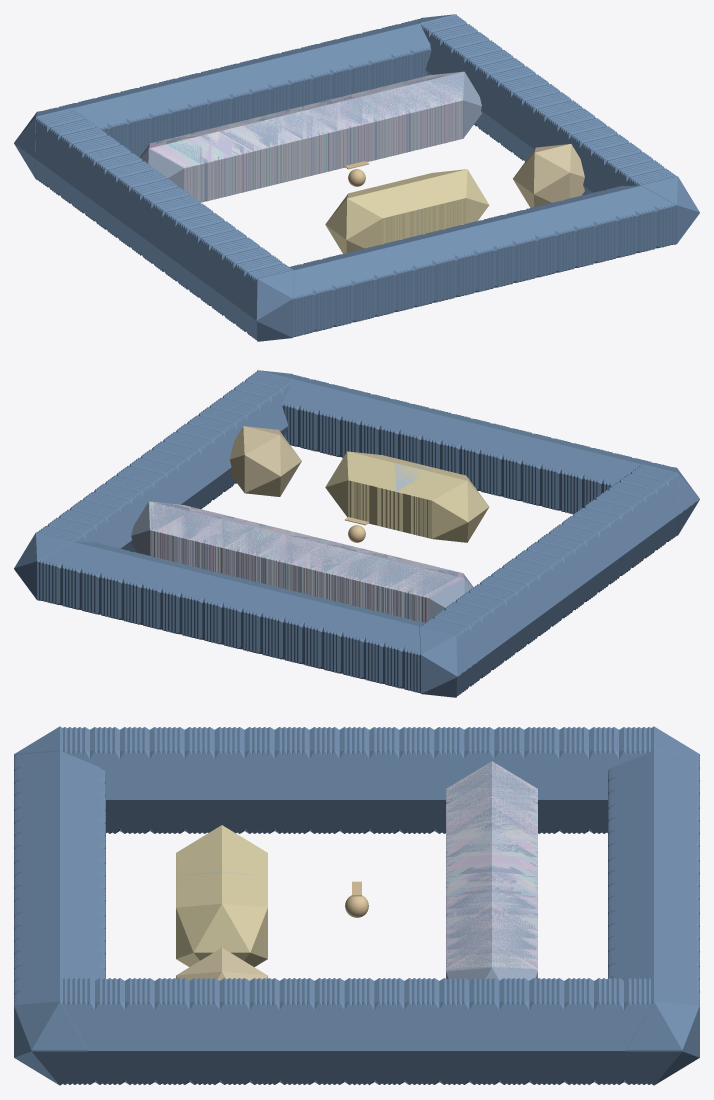
File: Gravitational_Lensing_Box.glb
3 renders of one model, top to bottom at view 1: azimuth 30°, elevation 25°; view 2: azimuth 150°, elevation 25°; view 3: azimuth 270°, elevation 25°, orthographic. The views are drawn at different scales.
Visible parts, largest first — view 1: img_v_plus, ein_ring_314, boxv_-5.5_5.5_100, src_v_4.0_0, ein_ring_0, boxv_5.5_5.5_100, src_v_-4.0_0, box_1_42, box_3_42, box_2_63, box_2_10, box_2_22 (+34 smaller); view 2: img_v_plus, ein_ring_314, boxv_-5.5_-5.5_100, ein_ring_0, src_v_-4.0_0, boxv_5.5_-5.5_100, box_0_77, src_v_4.0_0, box_0_9, box_0_56, box_0_31, boxv_-5.5_5.5_100 (+48 smaller); view 3: ein_ring_0, boxv_5.5_-5.5_100, boxv_5.5_5.5_100, img_v_plus, src_v_4.0_0, boxv_5.5_5.5_0, boxv_5.5_-5.5_0, box_3_15, box_3_10, box_3_57, box_3_36, box_3_21 (+205 smaller).
Part boxes in pixels (<box>): img_v_plus: <box>513,144,584,207</box>; ein_ring_314: <box>325,194,382,253</box>; boxv_-5.5_5.5_100: <box>236,270,294,320</box>; src_v_4.0_0: <box>428,71,481,138</box>; ein_ring_0: <box>431,169,489,223</box>; boxv_5.5_5.5_100: <box>641,176,699,218</box>; src_v_-4.0_0: <box>139,144,184,189</box>; box_1_42: <box>493,84,551,154</box>; box_3_42: <box>141,201,200,271</box>; box_2_63: <box>396,237,434,303</box>; box_2_10: <box>599,187,637,254</box>; box_2_22: <box>554,198,590,265</box>; img_v_plus: <box>229,426,301,496</box>; ein_ring_314: <box>432,476,489,542</box>; boxv_-5.5_-5.5_100: <box>419,626,477,676</box>; ein_ring_0: <box>325,451,374,517</box>; src_v_-4.0_0: <box>429,573,473,619</box>; boxv_5.5_-5.5_100: <box>14,532,72,571</box>; box_0_77: <box>121,554,159,621</box>; src_v_4.0_0: <box>131,501,182,555</box>; box_0_9: <box>383,618,420,685</box>; box_0_56: <box>202,574,239,641</box>; box_0_31: <box>297,596,333,664</box>; boxv_-5.5_5.5_100: <box>641,464,699,513</box>; ein_ring_0: <box>176,903,267,966</box>; boxv_5.5_-5.5_100: <box>626,977,699,1050</box>; boxv_5.5_5.5_100: <box>14,977,87,1050</box>; img_v_plus: <box>176,948,267,980</box>; src_v_4.0_0: <box>446,945,537,980</box>; boxv_5.5_5.5_0: <box>14,1009,87,1085</box>; boxv_5.5_-5.5_0: <box>626,1009,699,1085</box>; box_3_15: <box>131,727,182,833</box>; box_3_10: <box>106,727,152,833</box>; box_3_57: <box>384,727,431,833</box>; box_3_36: <box>253,727,307,833</box>; box_3_21: <box>166,727,217,833</box>.
Size of the model in its own units: 12.7 by 1.72 by 12.7.
